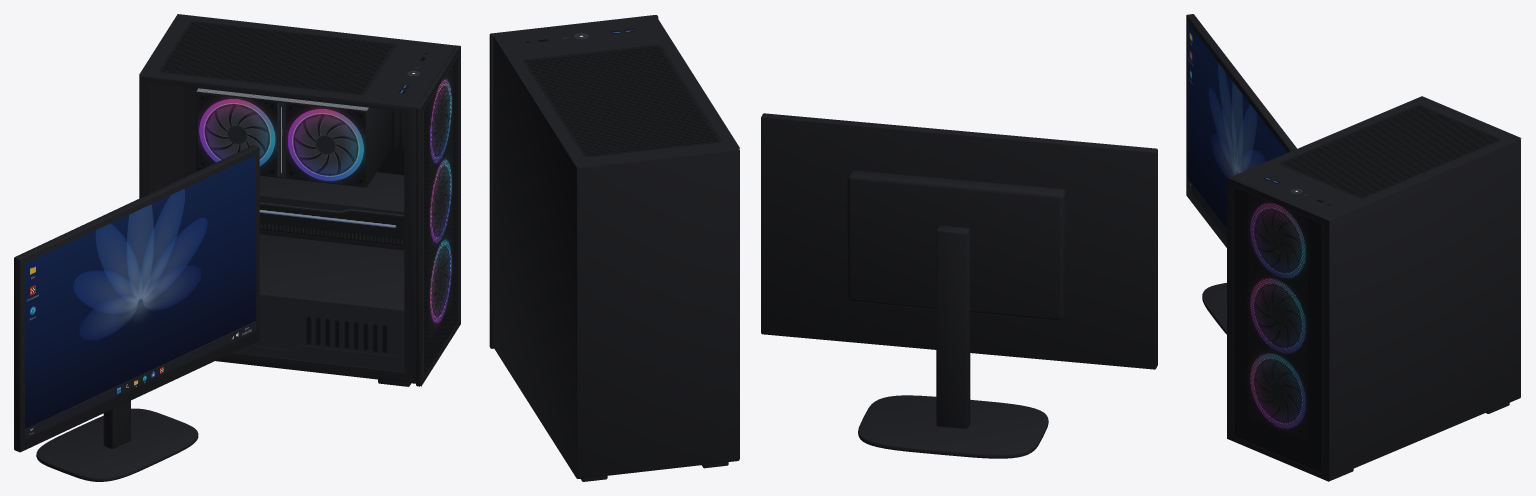
Rendered from windows.glb.
The picture shows the model from 3 angles, left to right: view 1: azimuth 30°, elevation 25°; view 2: azimuth 150°, elevation 25°; view 3: azimuth 270°, elevation 25°; orthographic projection. The views are drawn at different scales.
Parts seen in each view (by area): view 1: windows; view 2: windows; view 3: windows.
Part boxes in pixels (x1,y1,x2,y2): windows: [14, 14, 460, 481]; windows: [489, 15, 1157, 481]; windows: [1186, 14, 1521, 481].
Bounding box in the file's own units: 1 × 0.5242 × 0.5976.
Materials: 3 (2 with a texture image).
